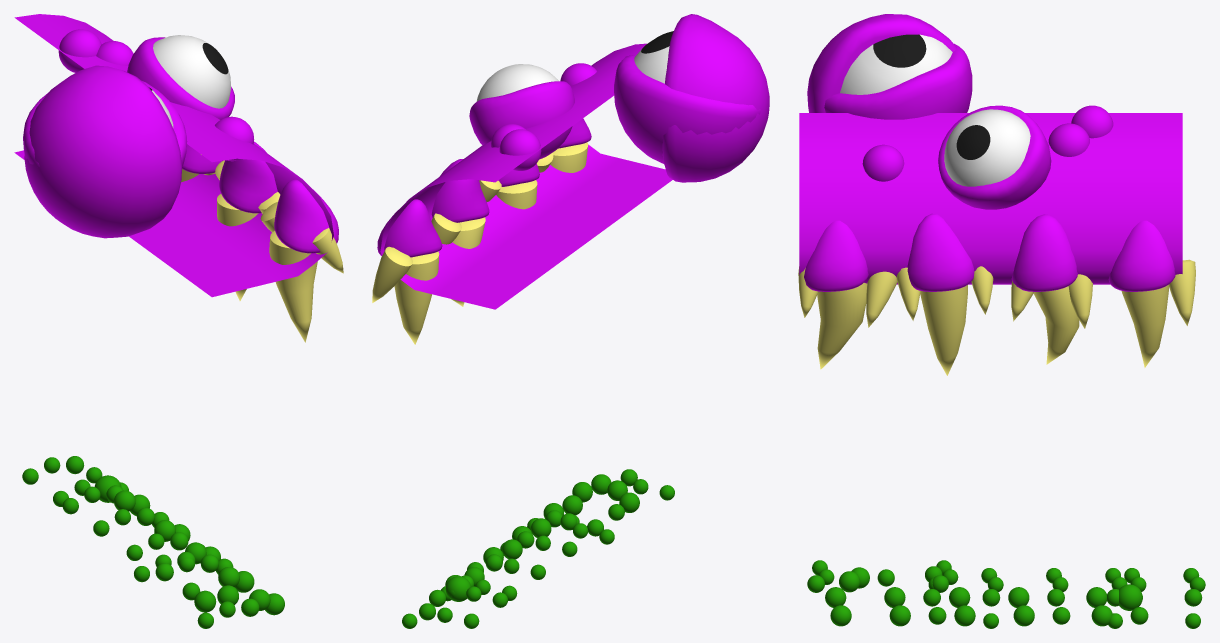
Rendered from Monster_Upper_Part_02.fbx.
The picture shows the model from 3 angles, left to right: view 1: azimuth 30°, elevation 25°; view 2: azimuth 150°, elevation 25°; view 3: azimuth 270°, elevation 25°; orthographic projection. The views are drawn at different scales.
Parts seen in each view (by area): view 1: Eye_01.006, UpperMouth, Sphere.001, Eye_01, Eye_01.010, Eye_01.011, Cylinder.004, Eye_01.001, Sphere.015, Eye_01.003, Cylinder.003, Cylinder.019 (+3 smaller); view 2: UpperMouth, Eye_01.006, Sphere.001, Eye_01.003, Eye_01.001, Eye_01.013, Cylinder.005, Eye_01.012, Eye_01, Cylinder.018, Sphere.015, Cylinder.004 (+4 smaller); view 3: UpperMouth, Sphere.001, Eye_01.003, Eye_01.006, Eye_01, Eye_01.001, Eye_01.011, Eye_01.012, Eye_01.013, Eye_01.010, Eye_01.002, Cylinder.004 (+13 smaller).
Part boxes in pixels (x1=…): Eye_01.006: x1=24, y1=65, x2=181, y2=238; UpperMouth: x1=14, y1=14, x2=333, y2=297; Sphere.001: x1=22, y1=456, x2=284, y2=628; Eye_01: x1=153, y1=35, x2=230, y2=108; Eye_01.010: x1=274, y1=179, x2=338, y2=253; Eye_01.011: x1=219, y1=141, x2=277, y2=213; Cylinder.004: x1=269, y1=230, x2=317, y2=342; Eye_01.001: x1=127, y1=37, x2=234, y2=119; Sphere.015: x1=58, y1=29, x2=101, y2=72; Eye_01.003: x1=23, y1=81, x2=187, y2=167; Cylinder.003: x1=217, y1=194, x2=258, y2=300; Cylinder.019: x1=312, y1=228, x2=343, y2=273; UpperMouth: x1=380, y1=43, x2=672, y2=309; Eye_01.006: x1=662, y1=14, x2=769, y2=182; Sphere.001: x1=402, y1=469, x2=674, y2=628; Eye_01.003: x1=614, y1=55, x2=761, y2=163; Eye_01.001: x1=469, y1=81, x2=574, y2=159; Eye_01.013: x1=377, y1=199, x2=442, y2=257; Cylinder.005: x1=394, y1=251, x2=439, y2=344; Eye_01.012: x1=431, y1=159, x2=489, y2=222; Eye_01: x1=476, y1=64, x2=558, y2=101; Cylinder.018: x1=372, y1=246, x2=412, y2=302; Sphere.015: x1=499, y1=129, x2=541, y2=170; Cylinder.004: x1=550, y1=142, x2=588, y2=172; UpperMouth: x1=799, y1=113, x2=1182, y2=284; Sphere.001: x1=807, y1=560, x2=1205, y2=628; Eye_01.003: x1=824, y1=43, x2=972, y2=119; Eye_01.006: x1=807, y1=14, x2=956, y2=112; Eye_01: x1=944, y1=109, x2=1030, y2=186; Eye_01.001: x1=938, y1=105, x2=1051, y2=209; Eye_01.011: x1=907, y1=213, x2=974, y2=291; Eye_01.012: x1=1011, y1=214, x2=1077, y2=291; Eye_01.013: x1=1108, y1=220, x2=1175, y2=291; Eye_01.010: x1=804, y1=220, x2=868, y2=291; Eye_01.002: x1=840, y1=34, x2=952, y2=94; Cylinder.004: x1=817, y1=283, x2=867, y2=369.
Size of the model in its own units: 208 by 415 by 282.
